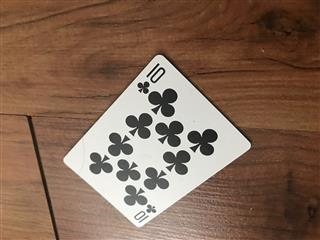TenOfClubs: (62, 52, 251, 227)
